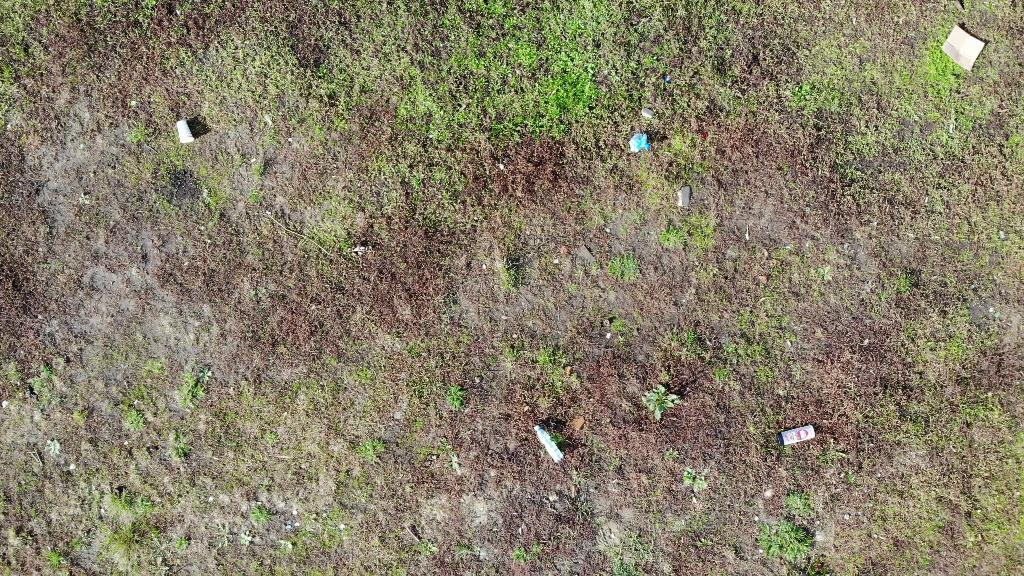garbage: (941, 22, 986, 72), (532, 423, 567, 465), (533, 424, 566, 463), (172, 113, 200, 149), (775, 424, 816, 446), (174, 118, 197, 146), (624, 131, 650, 154), (626, 131, 650, 154)
